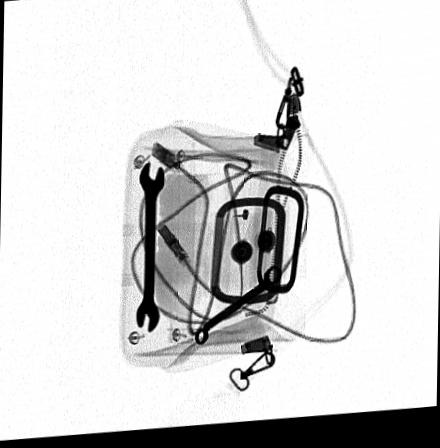Wrench: (195, 269, 282, 350), (134, 163, 164, 336)
